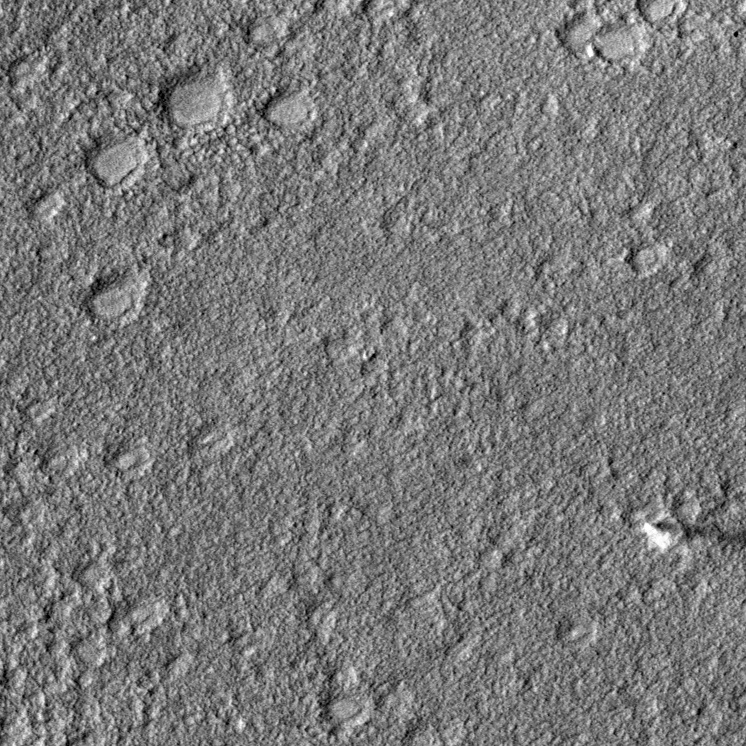dust_devil: (640, 519, 746, 556)
